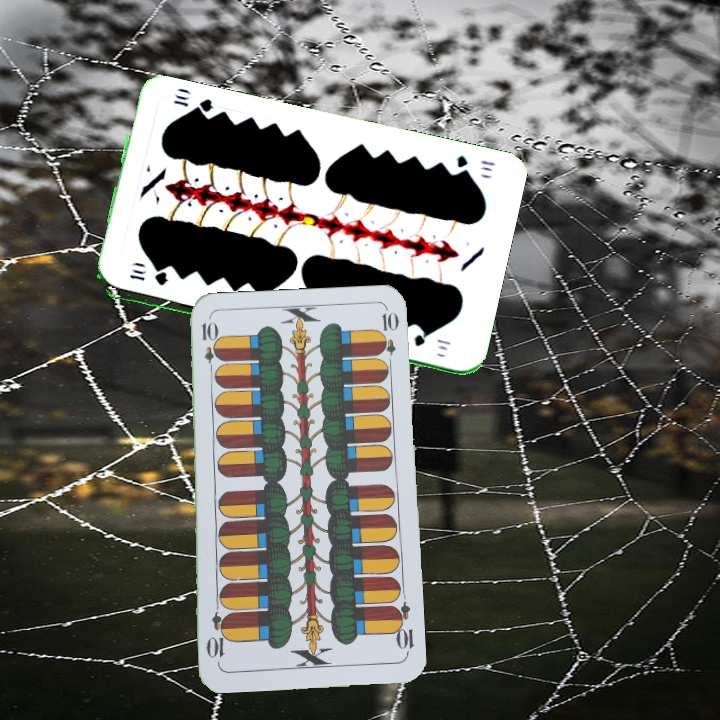E10: (388, 599, 416, 658), (197, 318, 218, 377)
G10: (453, 151, 497, 178), (126, 270, 171, 288)
